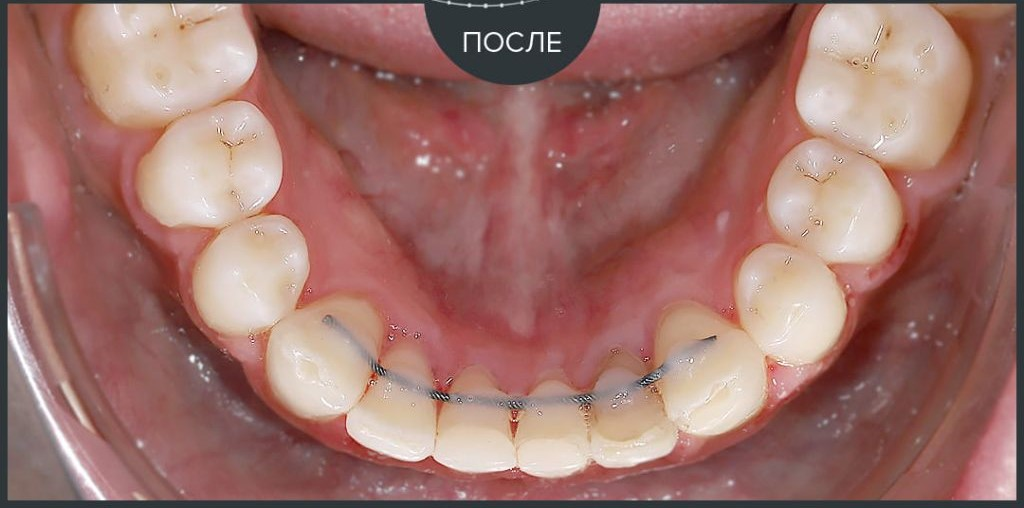LL1BC_healthy: (738, 244, 844, 359)
LL1M_decay: (812, 6, 962, 153)
LL2BC_decay: (769, 142, 888, 259)
LLCI_decay: (516, 383, 588, 474)
LLC_decay: (659, 312, 764, 426)
LLLI_decay: (591, 378, 672, 461)
LR1BC_healthy: (202, 218, 303, 324)
LR1M_decay: (82, 5, 251, 103)
LR2BC_decay: (150, 104, 282, 219)
LRCI_decay: (441, 378, 512, 472)
LRC_decay: (277, 300, 376, 415)
LRLI_decay: (365, 351, 437, 462)
